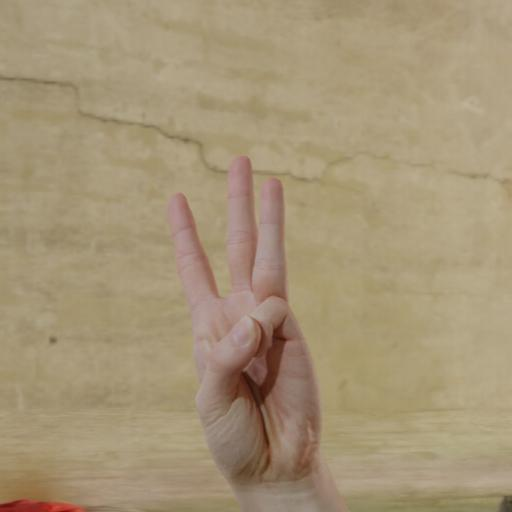W: (153, 144, 349, 494)
